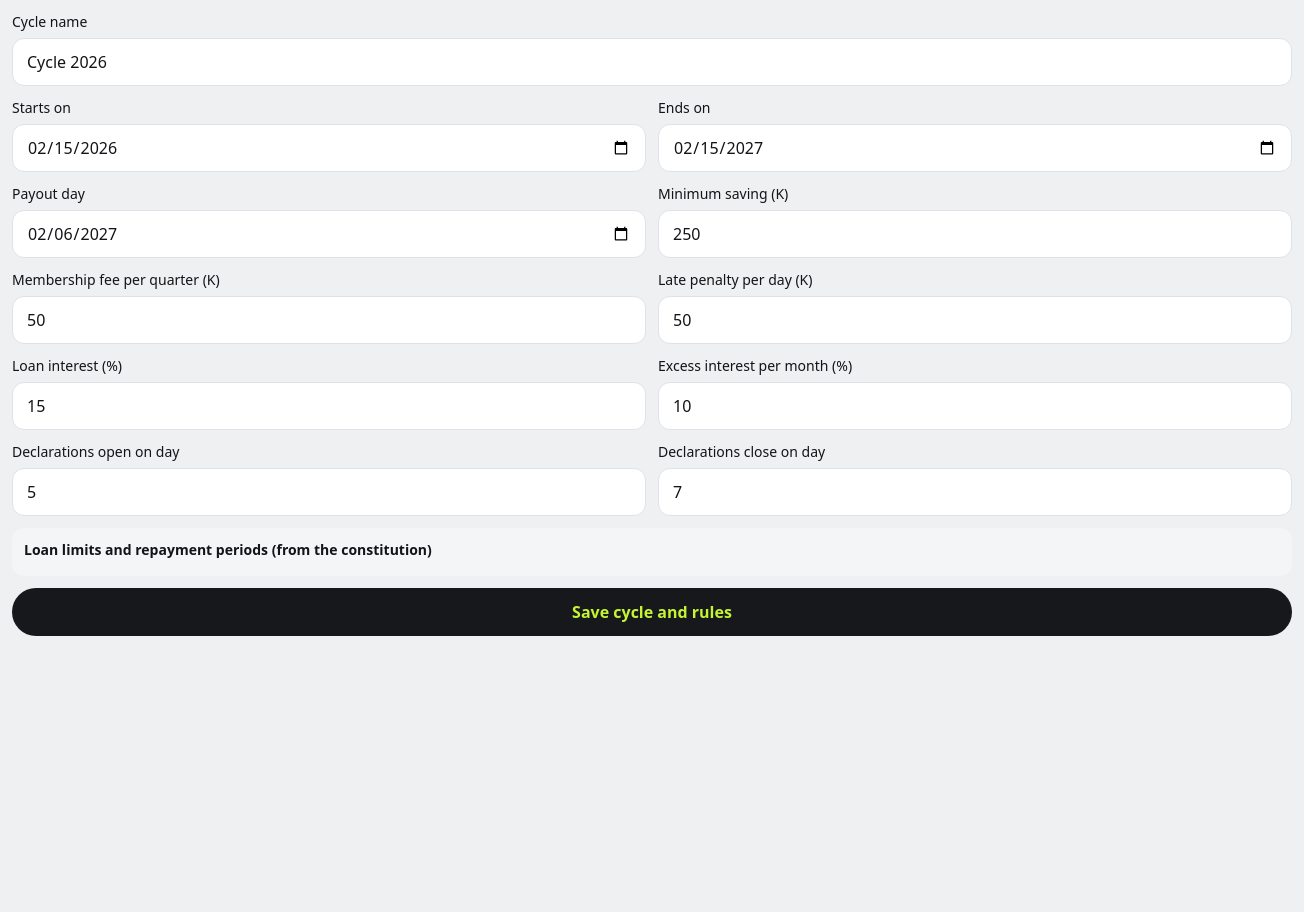
invalid values show field errors and nothing is sent
Clear the field labelled "Cycle name" at (652, 62), box [12, 38, 1292, 86]
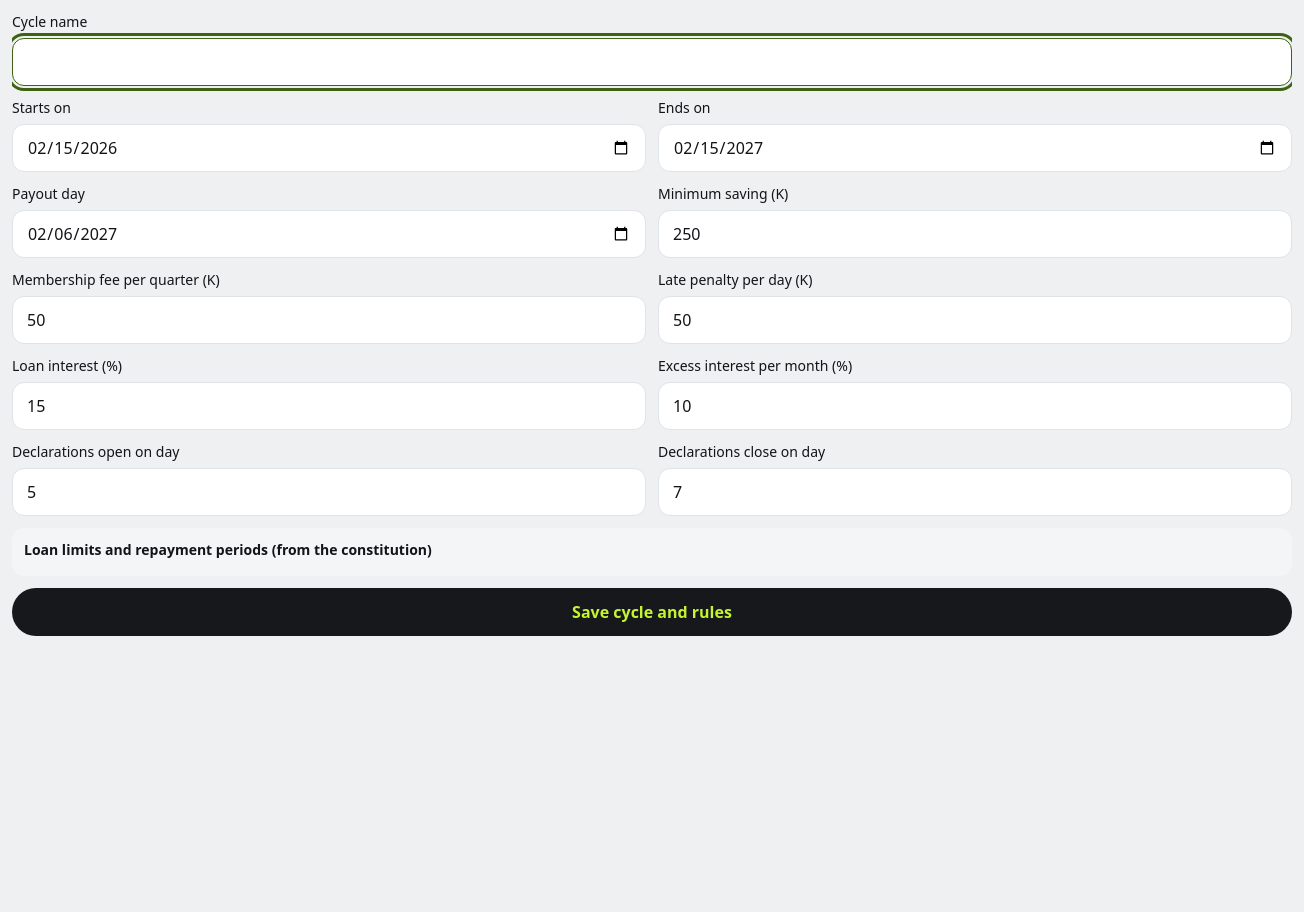
Click the button "Save cycle and rules" at (652, 612), box [12, 588, 1292, 636]
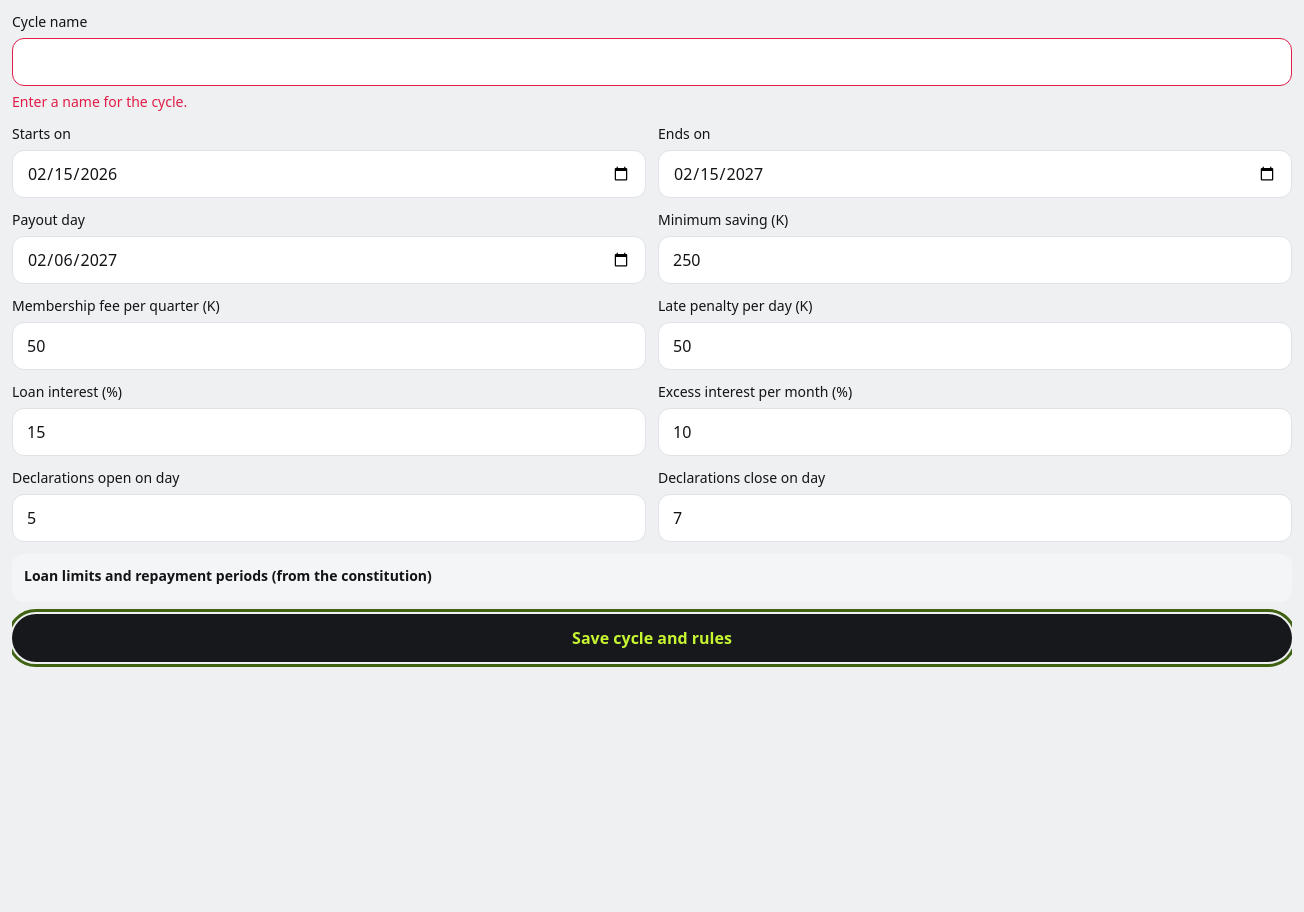
Expected: the text "Enter a name for the cycle." is shown, [12, 92, 187, 111]
